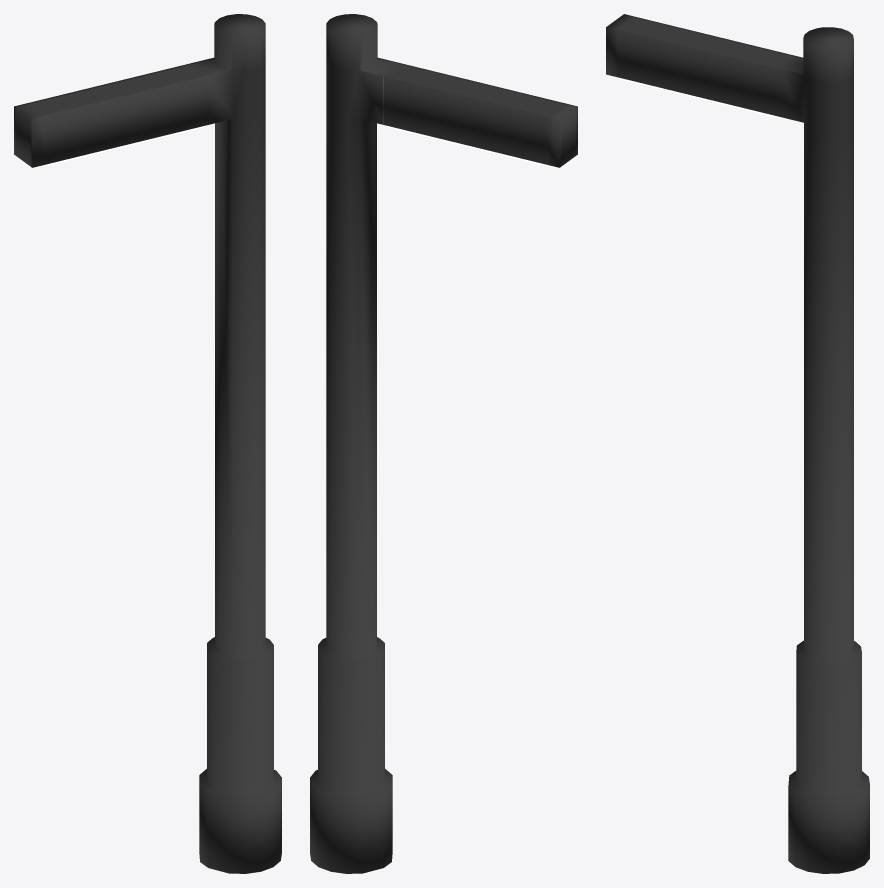
File: latarnia1.glb
3 views of the same model, side by side, from view 1: azimuth 30°, elevation 25°; view 2: azimuth 150°, elevation 25°; view 3: azimuth 330°, elevation 25° (orthographic).
Visible parts, largest first — view 1: Cylinder.003; view 2: Cylinder.003; view 3: Cylinder.003.
Boxes of the visible parts, x1,y1,x2,y2 form: Cylinder.003: (14, 14, 281, 873); Cylinder.003: (310, 14, 577, 873); Cylinder.003: (606, 14, 869, 873).
Size of the model in its own units: 0.0401 by 0.1258 by 0.0116.
2 materials, 2 textured.
